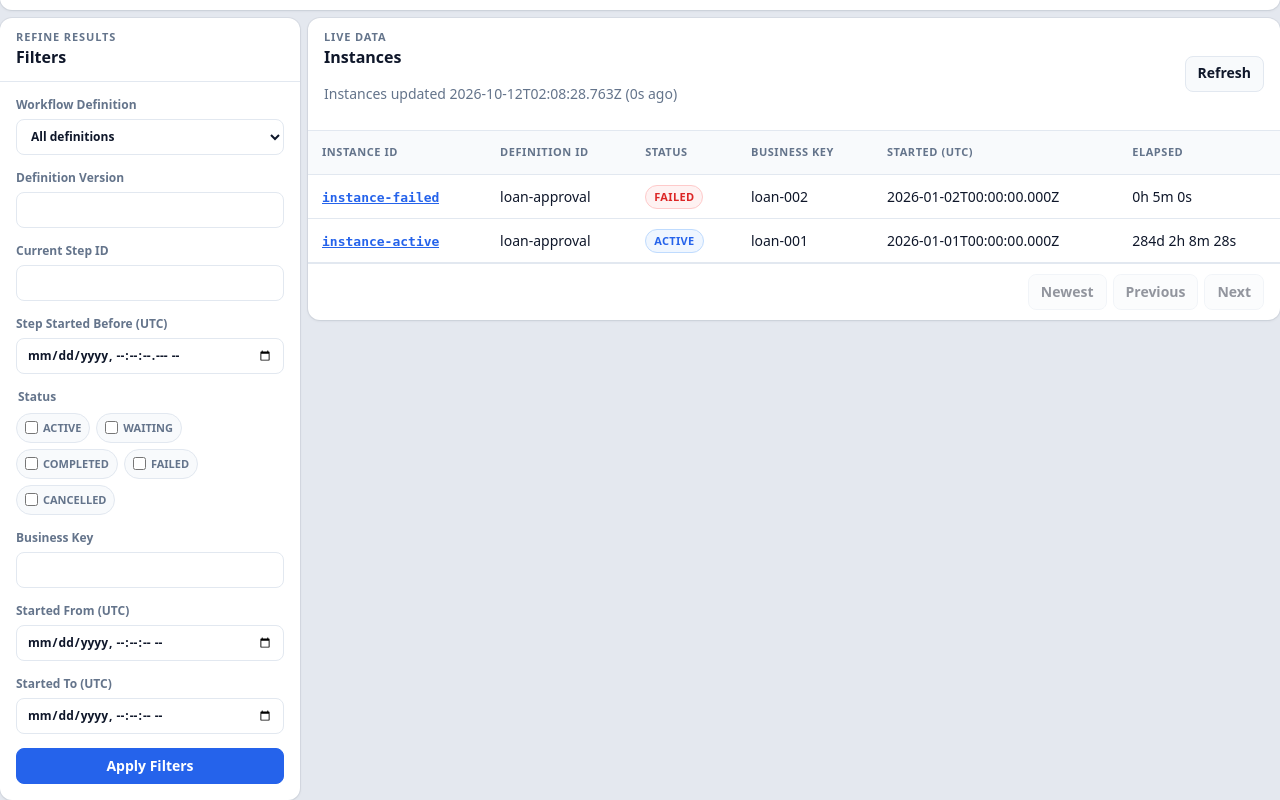
keeps the filters editable and explains an invalid time range before sending it
(page scrolled)
Expected: the cell "instance-active" is shown, [308,219,486,263]
Type "2026-02-01T00:00" into the field labelled "Started From (UTC)". click: (150, 643)
box: [16,625,284,661]
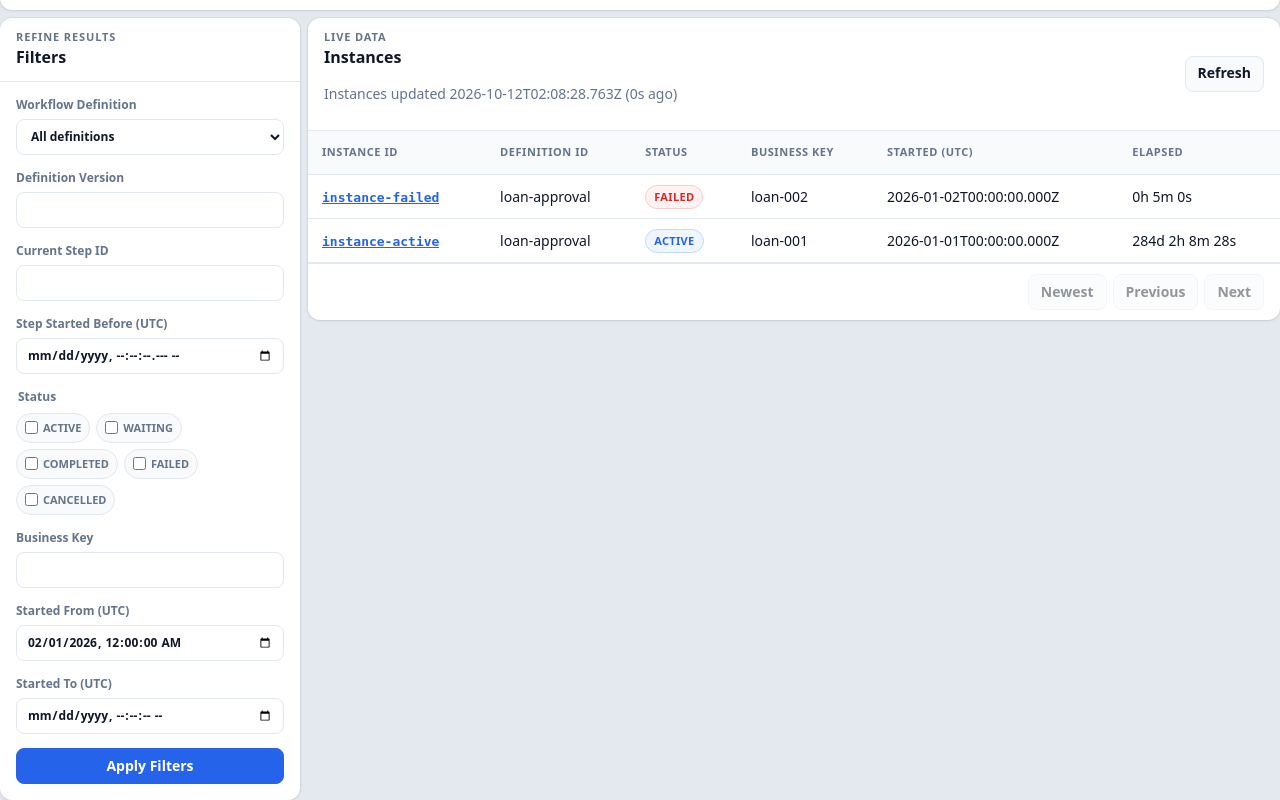
Type "2026-01-01T00:00" into the field labelled "Started To (UTC)". click: (150, 716)
box: [16,698,284,734]
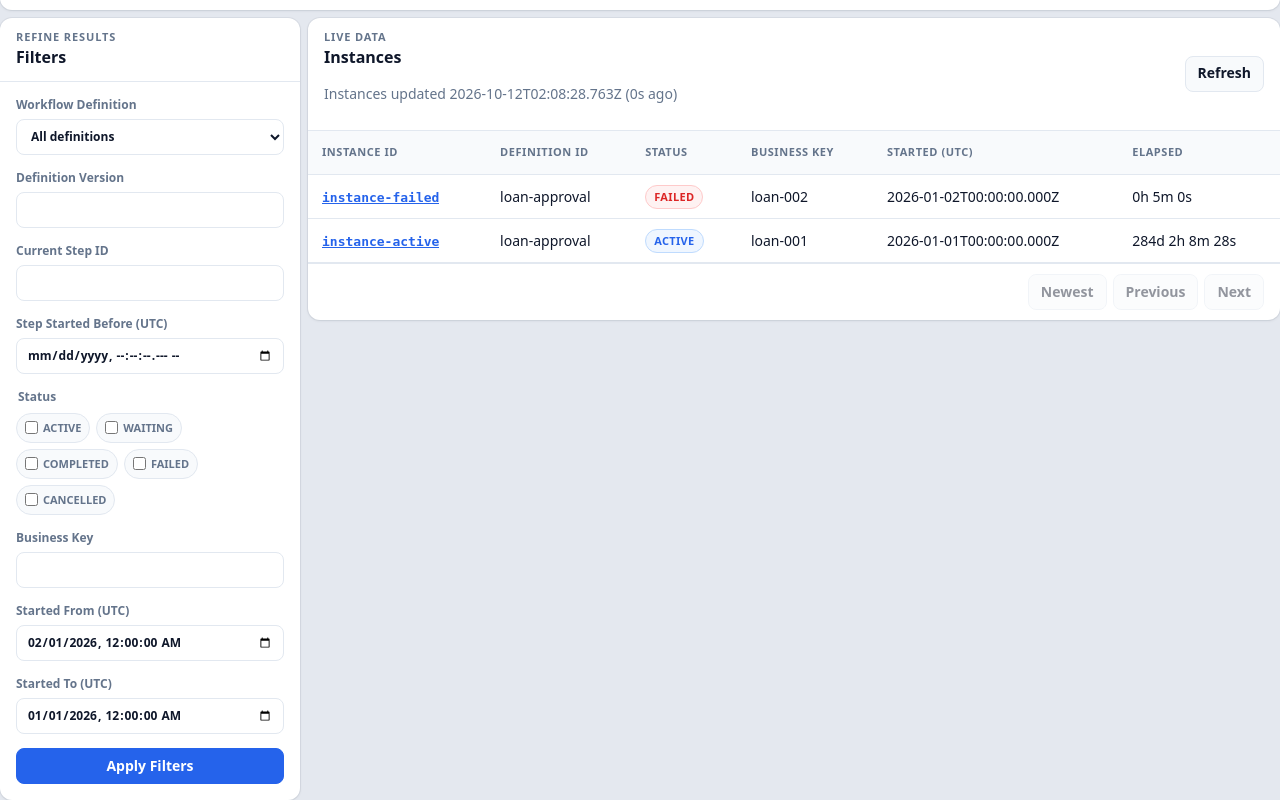
Click the button "Apply Filters". click: (150, 766)
box: [16,748,284,784]
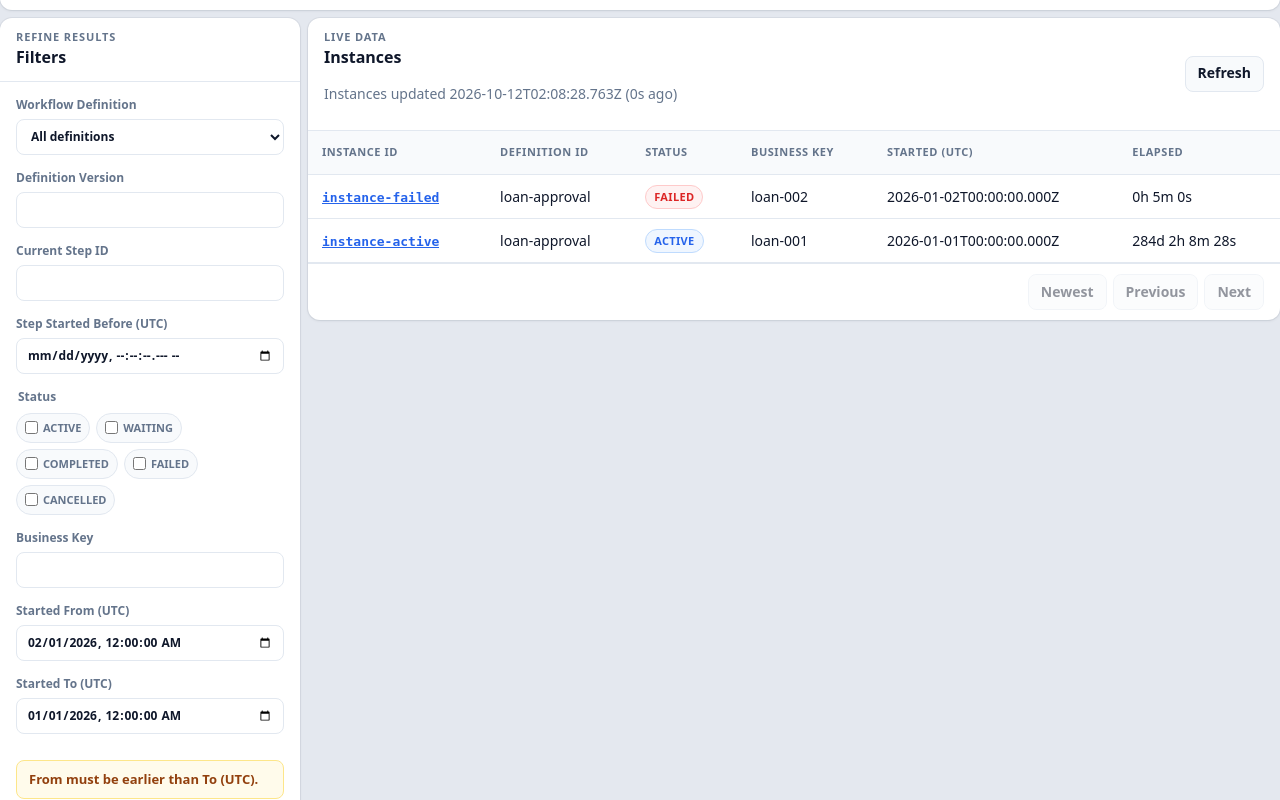
Expected: the cell "instance-active" is shown, [308,219,486,263]
Now the message reads "From must be earlier than To (UTC).", box [29,770,258,788]
